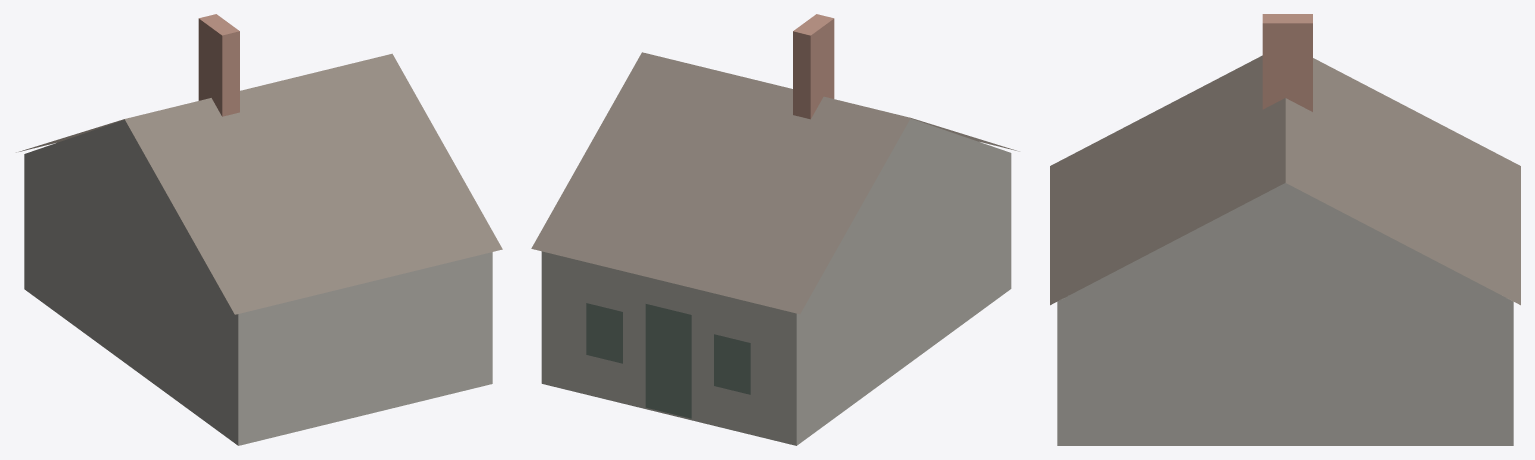
Rendered from recon_1835_south_d1_033__recommended_1835.glb.
The picture shows the model from 3 angles, left to right: view 1: azimuth 30°, elevation 25°; view 2: azimuth 150°, elevation 25°; view 3: azimuth 270°, elevation 25°; orthographic projection. The views are drawn at different scales.
Visible parts, largest first — view 1: recon_1835_south_d1_033__recommended_1835; view 2: recon_1835_south_d1_033__recommended_1835; view 3: recon_1835_south_d1_033__recommended_1835.
Part boxes in pixels (left/top/right/bottom): recon_1835_south_d1_033__recommended_1835: left=16, top=14, right=502, bottom=445; recon_1835_south_d1_033__recommended_1835: left=531, top=14, right=1019, bottom=445; recon_1835_south_d1_033__recommended_1835: left=1050, top=14, right=1520, bottom=445.
Size of the model in its own units: 5.43 by 6.2 by 7.75.
